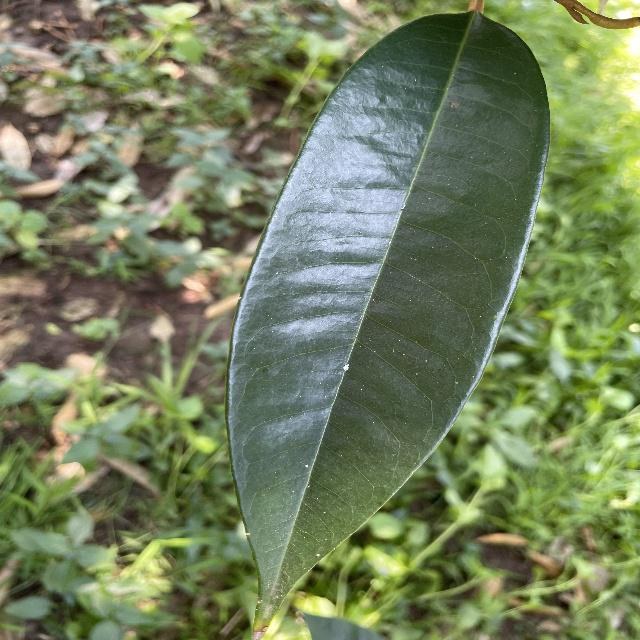No Disease: (221, 5, 560, 639)
